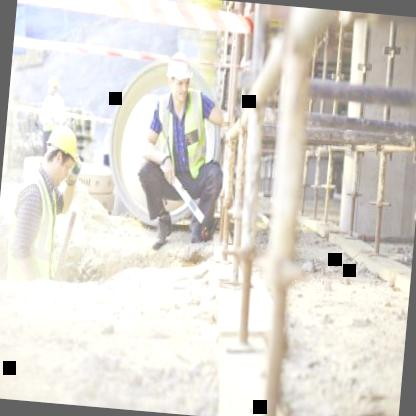helmet: (39, 122, 85, 192), (158, 51, 200, 110)
